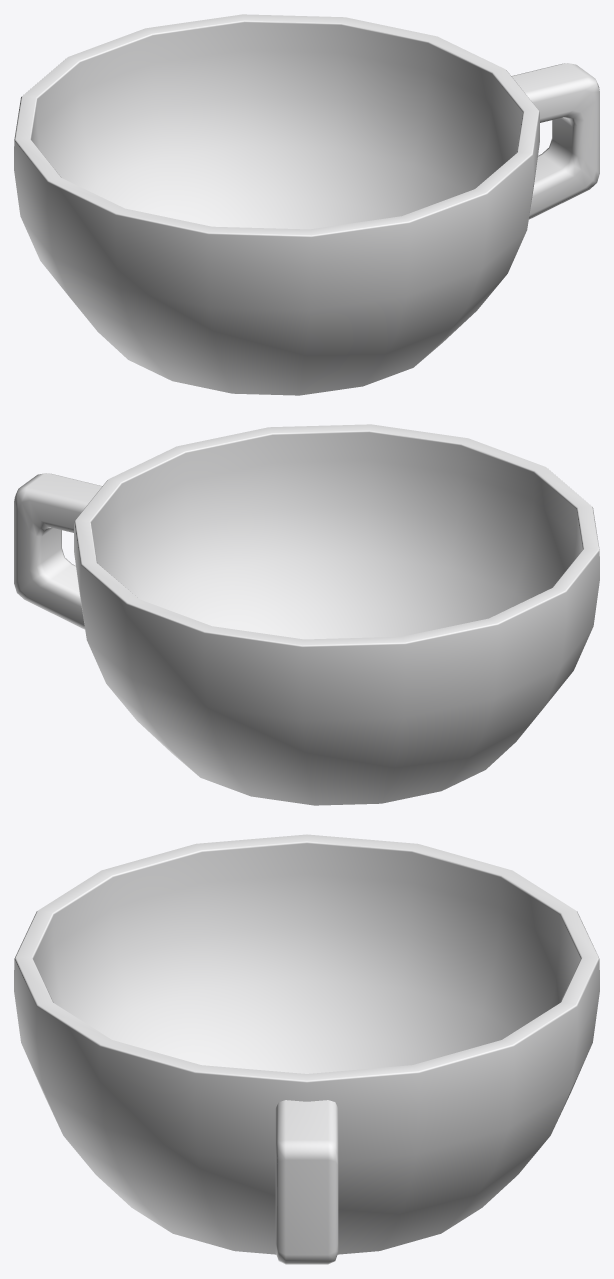
The model's file is Store_5_Cup_1.glb.
3 views of the same model, one above another, from view 1: azimuth 30°, elevation 25°; view 2: azimuth 150°, elevation 25°; view 3: azimuth 270°, elevation 25° (orthographic). The views are drawn at different scales.
Visible parts, largest first — view 1: Store_5_Cup_1; view 2: Store_5_Cup_1; view 3: Store_5_Cup_1.
Part boxes in pixels (left/top/right/bottom): Store_5_Cup_1: left=14, top=14, right=599, bottom=395; Store_5_Cup_1: left=14, top=424, right=599, bottom=805; Store_5_Cup_1: left=14, top=834, right=599, bottom=1264.
Bounding box in the file's own units: 0.2643 × 0.0955 × 0.224.
Materials: 1 (1 with a texture image).
